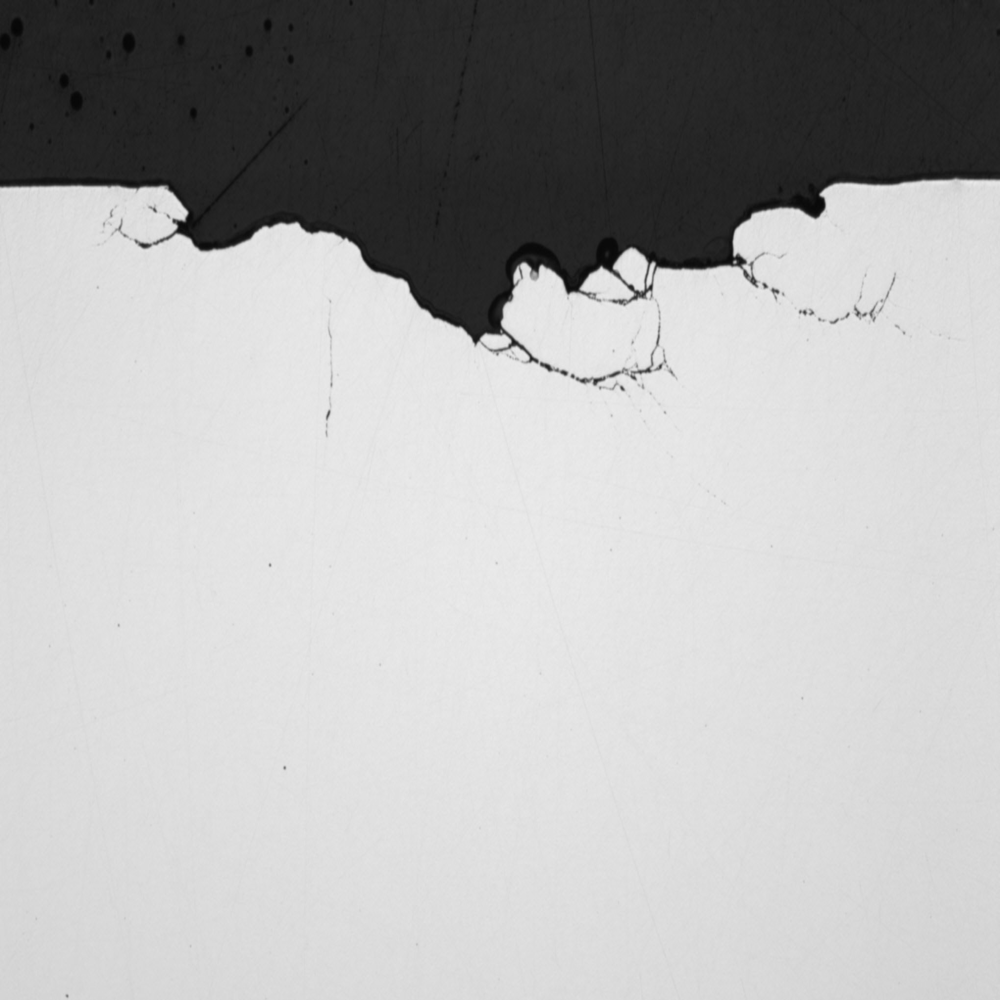crack: (430, 246, 719, 422), (713, 235, 920, 345), (109, 197, 282, 261)
